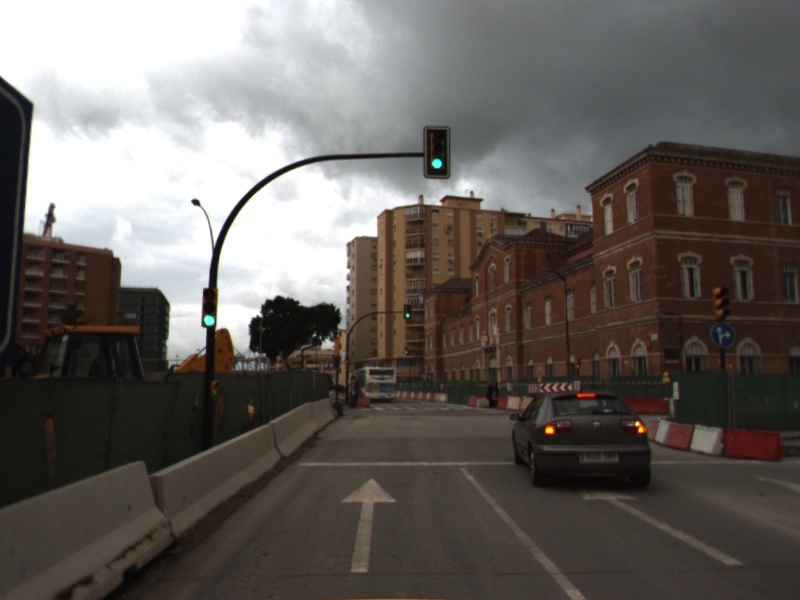STRAIGHT: (577, 480, 748, 568), (339, 476, 400, 575)
